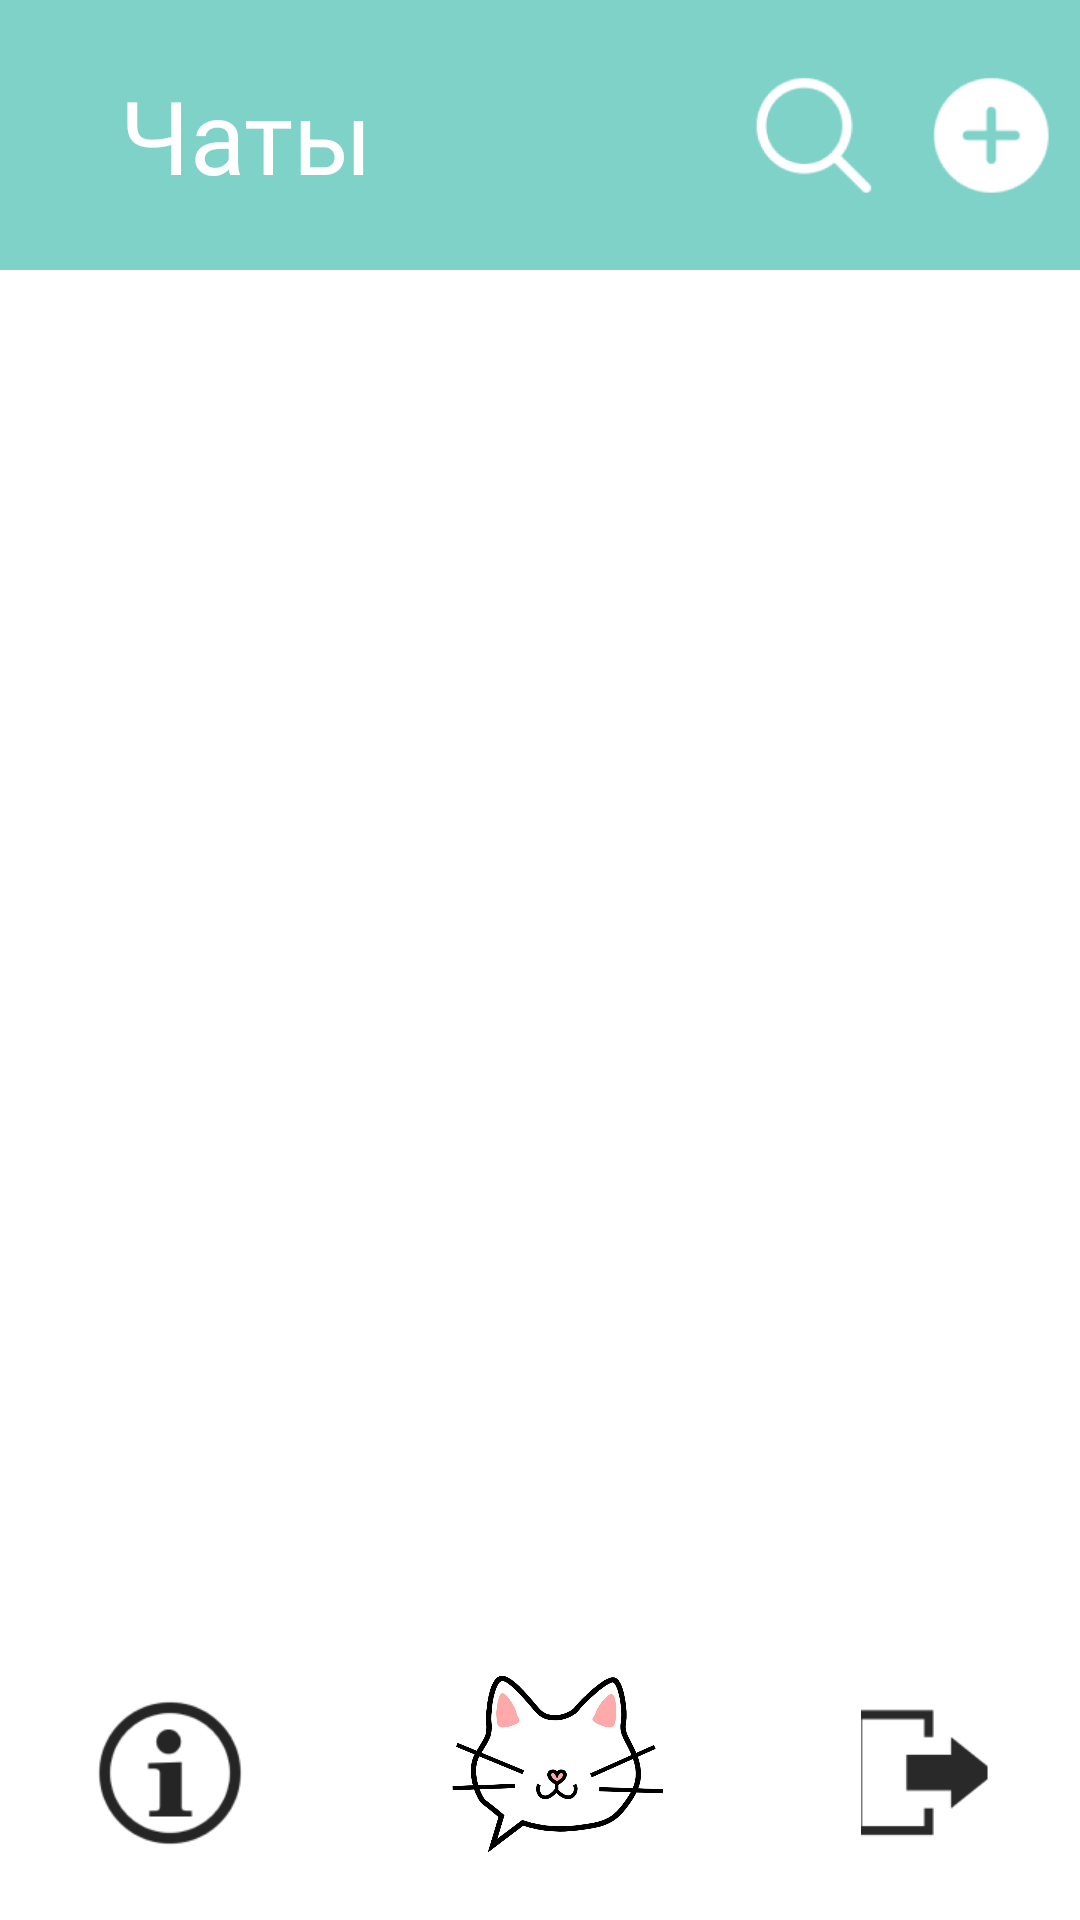

Where icons sit on this 1080×1920 app screen, as detection(x1, y1, x2, y2):
addchat: detection(934, 78, 1049, 193)
information: detection(99, 1702, 241, 1844)
out: detection(861, 1709, 988, 1836)
searchmess: detection(756, 78, 871, 193)
